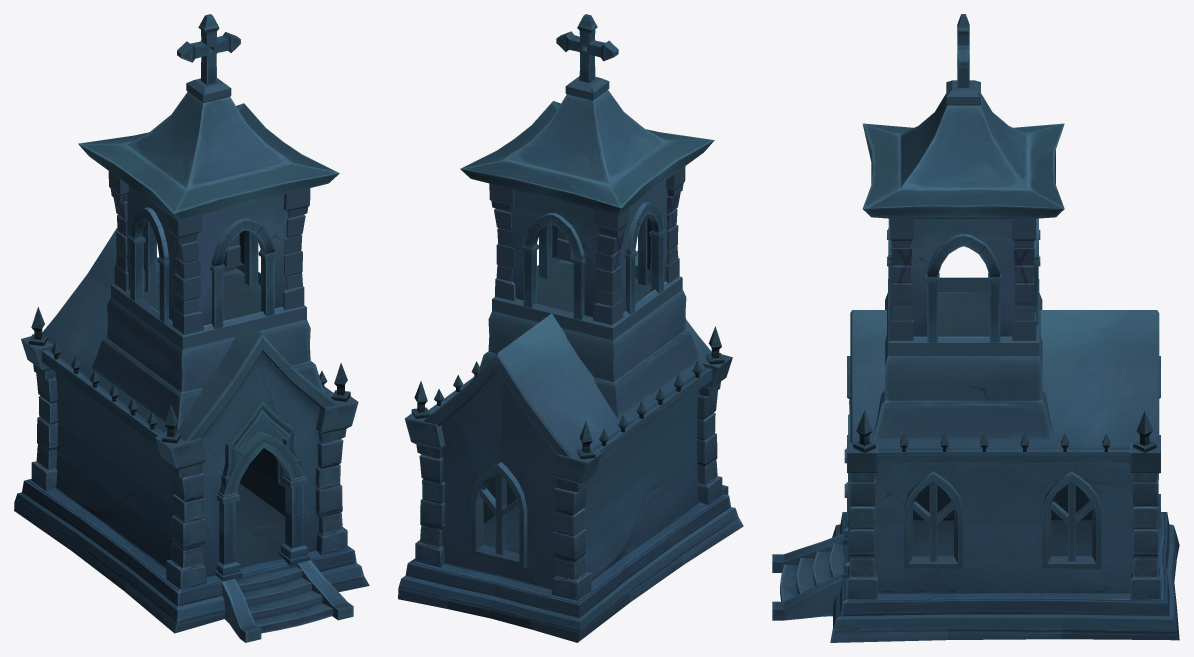
The model's file is Church_Ajusted.fbx.
3 renders of one model, left to right at view 1: azimuth 30°, elevation 25°; view 2: azimuth 150°, elevation 25°; view 3: azimuth 270°, elevation 25°, orthographic. The views are drawn at different scales.
Visible parts, largest first — view 1: Church_Tower.001, Base.003, Pillars.003, Roof.005, Pillars.005, Gate.001, Roof.004, Base.002, Roof.001; view 2: Base.003, Church_Tower.001, Roof.005, Pillars.003, Pillars.005, Roof.004, Gate.004, Roof.001; view 3: Church_Tower.001, Base.003, Roof.005, Pillars.003, Gate.004, Pillars.005, Base.002, Roof.004, Roof.001, Gate.001.
Boxes of the visible parts, x1,y1,x2,y2 form: Church_Tower.001: (78,14,339,430); Base.003: (14,352,369,633); Pillars.003: (21,336,358,589); Roof.005: (42,228,338,447); Pillars.005: (108,171,310,334); Gate.001: (215,398,309,581); Roof.004: (128,207,276,328); Base.002: (216,559,353,642); Roof.001: (28,307,350,443); Base.003: (398,371,743,642); Church_Tower.001: (460,14,714,419); Roof.005: (423,250,712,462); Pillars.003: (404,354,732,600); Pillars.005: (489,166,685,324); Roof.004: (521,202,665,320); Gate.004: (471,461,527,568); Roof.001: (411,326,724,458); Church_Tower.001: (862,14,1064,439); Base.003: (830,464,1179,642); Roof.005: (850,310,1159,464); Pillars.003: (847,356,1160,599); Gate.004: (903,471,1158,569); Pillars.005: (889,218,1036,340); Base.002: (772,534,846,620); Roof.004: (887,218,1040,342); Roof.001: (853,410,1156,453); Gate.001: (842,400,850,578).
Size of the model in its own units: 465 by 1248 by 798.
